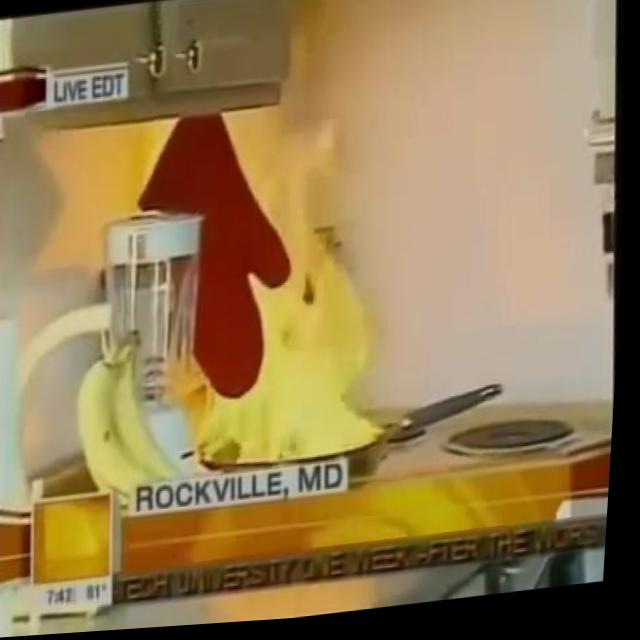fire: (158, 97, 404, 479)
